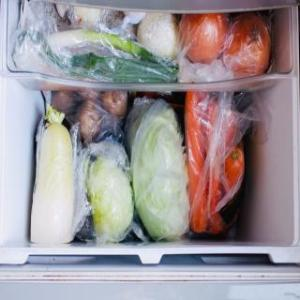carrot: (186, 90, 210, 232), (226, 148, 244, 192)
onion: (225, 18, 271, 80), (178, 12, 226, 66)
